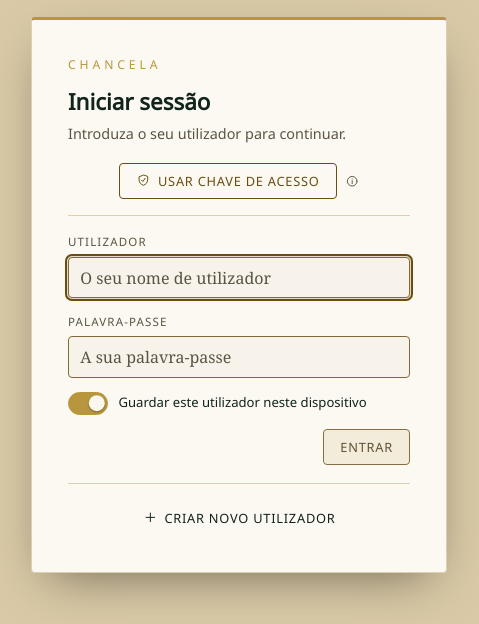
Test: AuthGate › while the sign-in mutation is pending, the action is suppressed and a spinner shows
Type "bruno.dias" into the field labelled "Utilizador" at (239, 278), box [68,257,410,298]
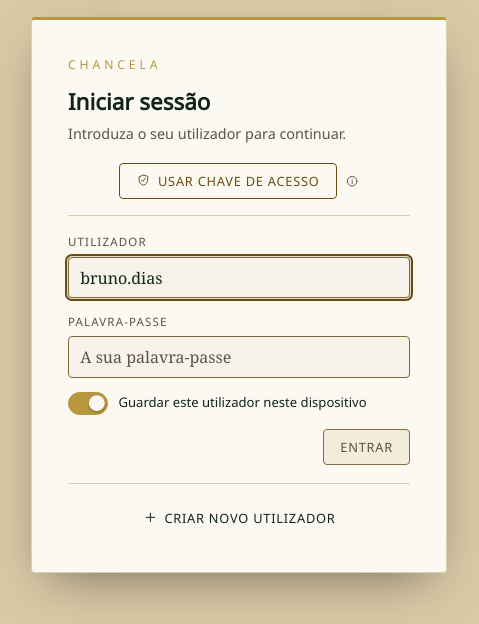
Type "correct-horse" into the password field labelled "Palavra-passe" at (239, 357), box [68,336,410,378]
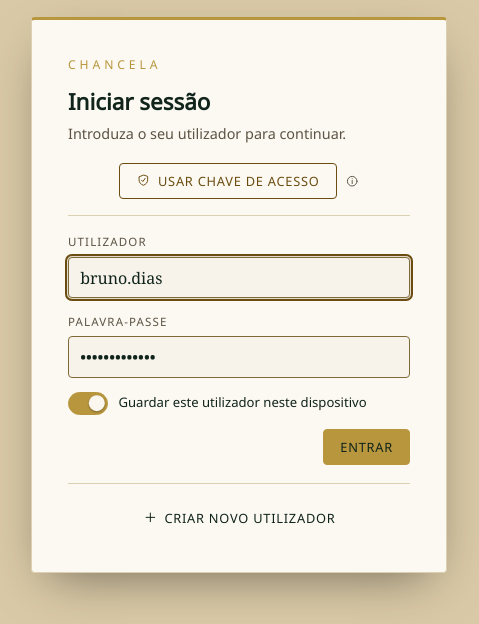
Click the button "Entrar" at (367, 447), box [323,429,410,465]
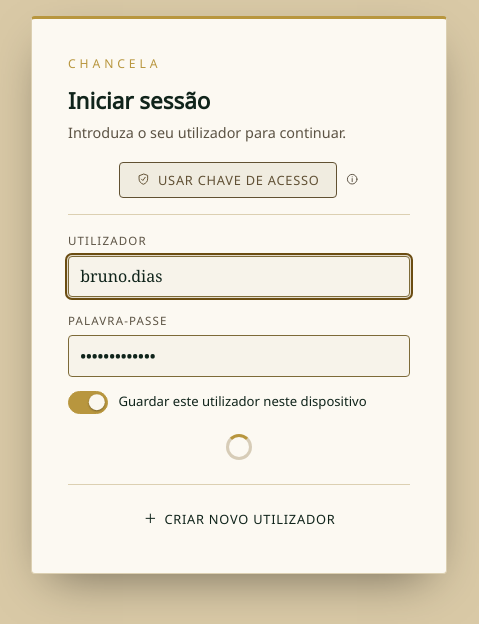
Expected: the message is shown, [226,434,252,460]
Expected: the button "Entrar" is gone
